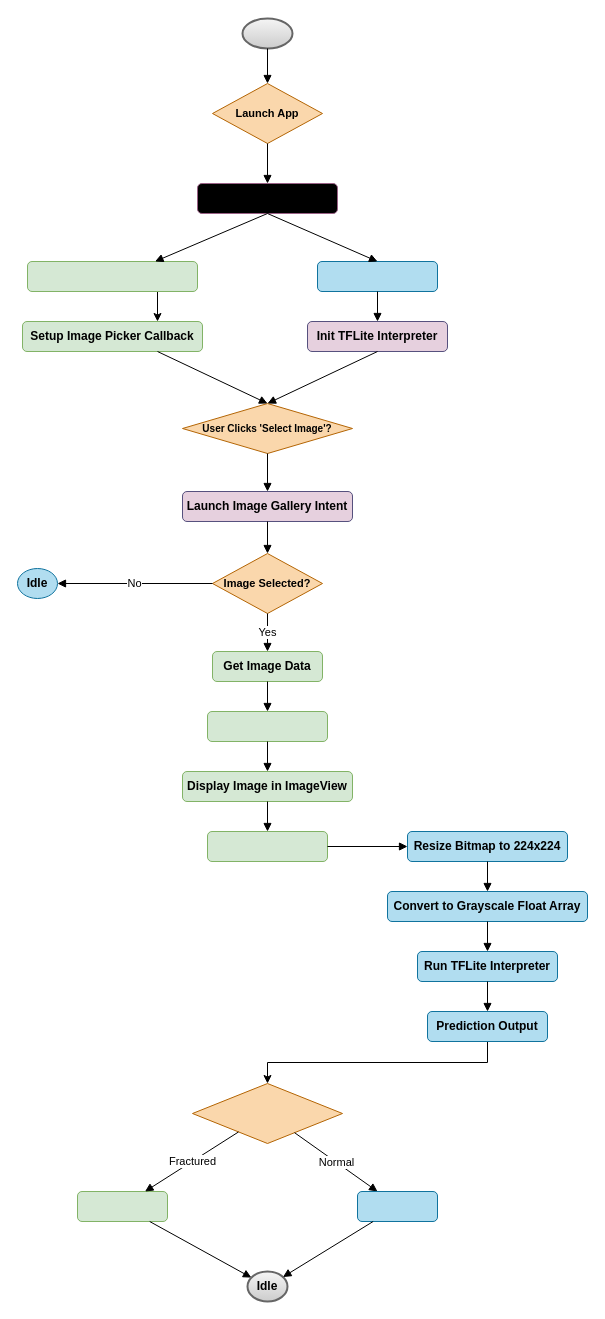
The diagram is 605 pixels wide and 1319 high, and some of its shapes have lost their labels. The centre of each missing label's shape, as x and y in pixels:
"Compare Class Scores" goes at [267,1113].
"Decode to Bitmap" goes at [267,726].
"Load TFLite Model" goes at [377,276].
"Load UI (activity_main.xml)" goes at [112,276].
"runModel(bitmap)" goes at [267,846].
"Start" goes at [267,33].
"✅ Normal" goes at [397,1206].
"🩻 Fractured" goes at [122,1206].
